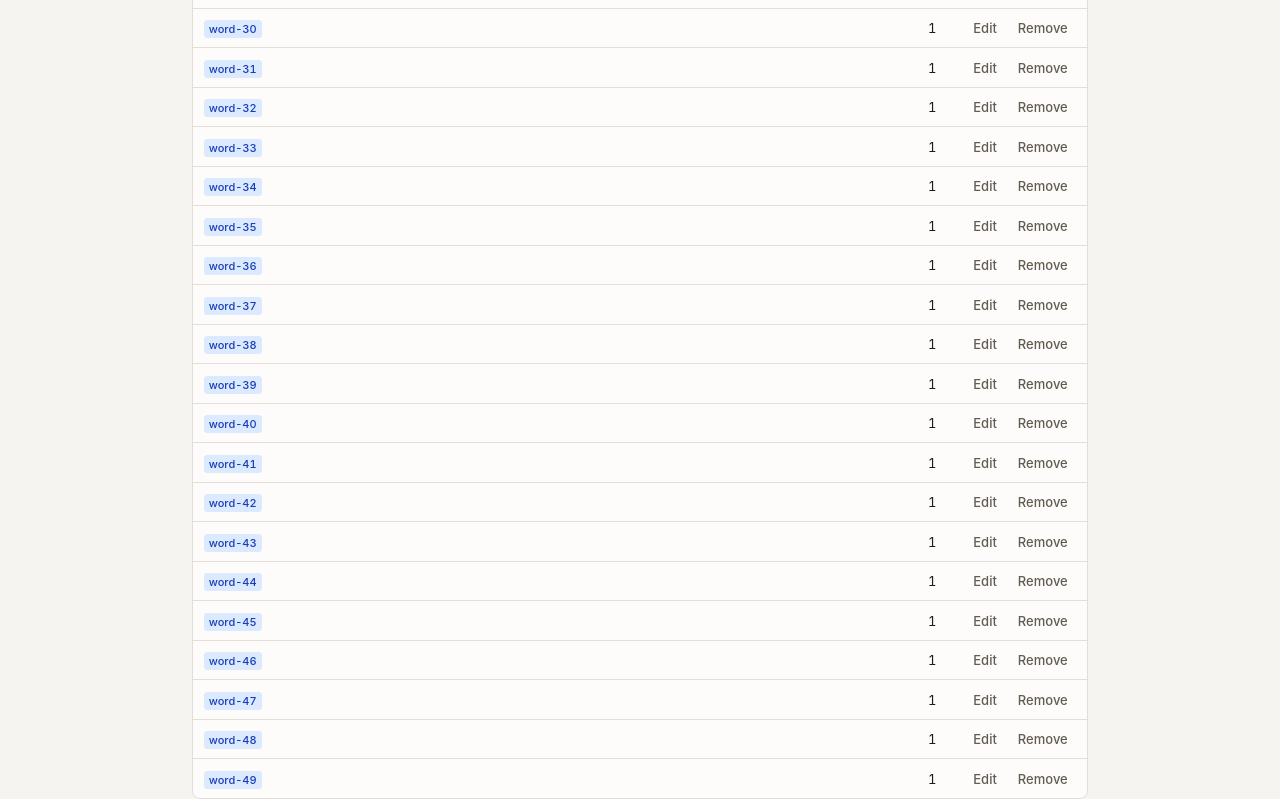
Test case: a refused removal on the labels page › is said in a toast, not in a banner above the table
(page scrolled)
Click the button "Remove" in the row of "word-49": (1043, 779) x1=1009 y1=766 x2=1076 y2=791
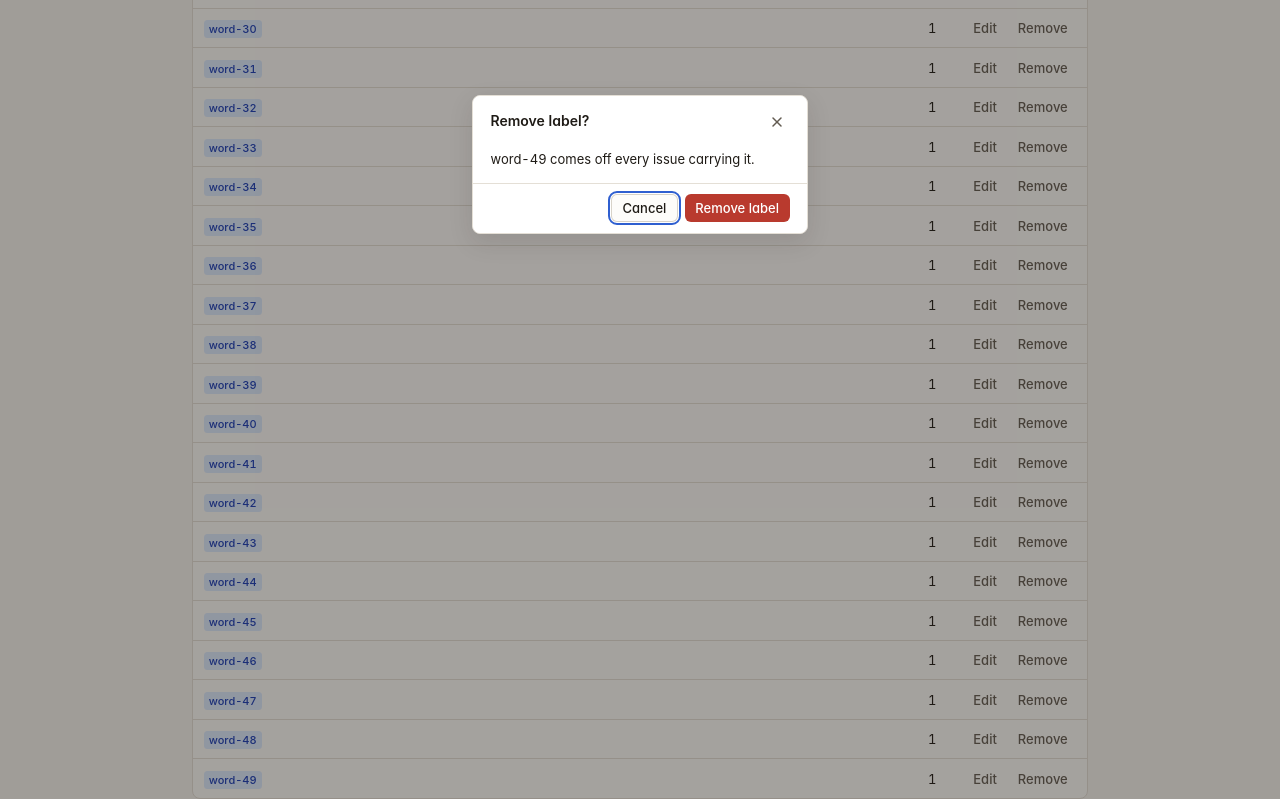
Click the button "Remove label": (737, 208) x1=685 y1=194 x2=790 y2=222
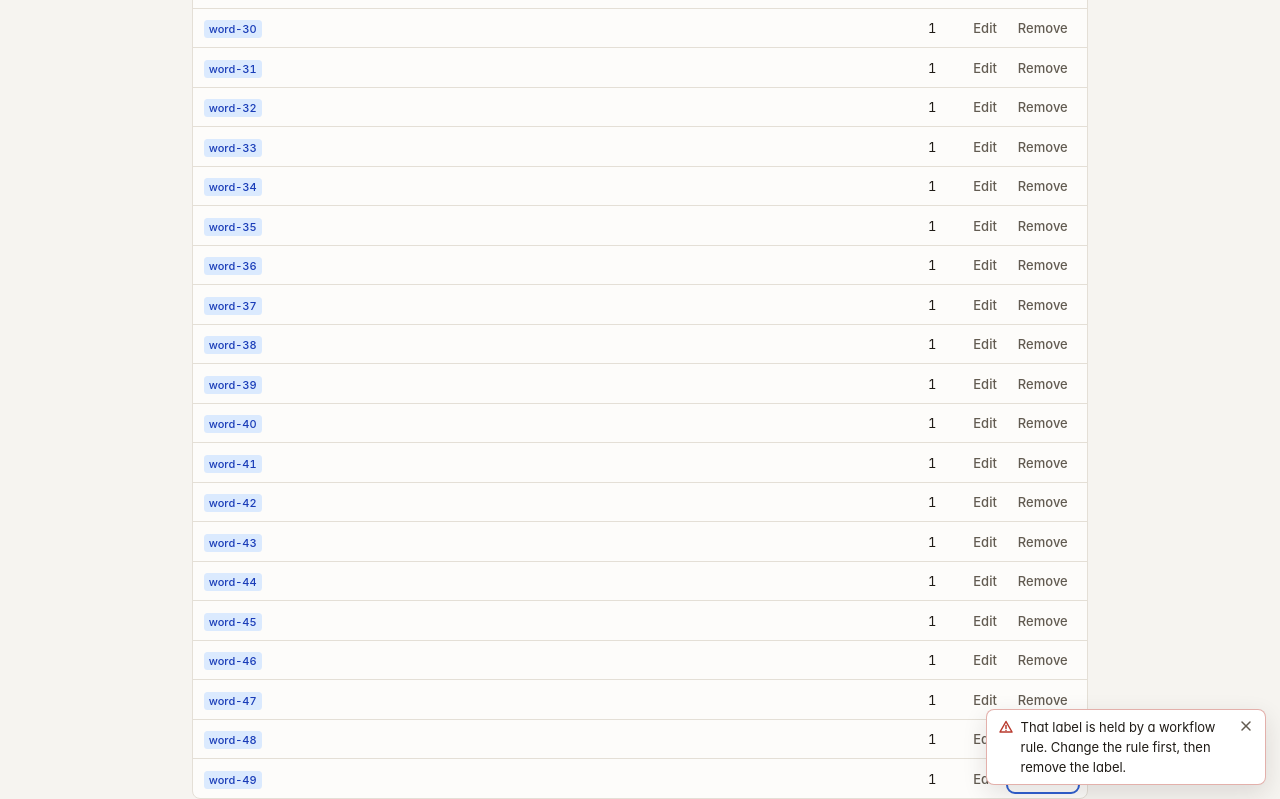
Expected: the text "That label is held by a workflow rule. Change the rule first, then remove the label." is shown, x1=1020 y1=719 x2=1216 y2=775
Expected: the text "That label is held by a workflow rule. Change the rule first, then remove the label." is shown once, x1=1020 y1=717 x2=1226 y2=777
